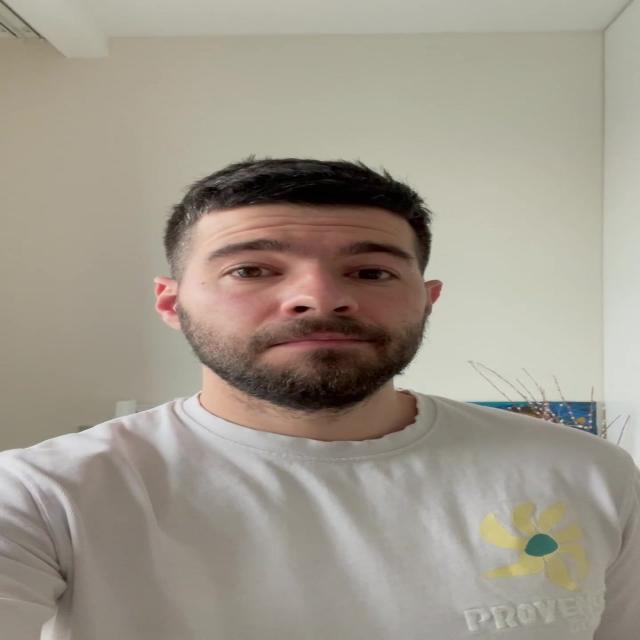earlobe: (161, 312, 184, 332)
eye: (349, 267, 398, 283), (224, 266, 281, 278)
nose: (285, 310, 354, 334)
wholeear: (153, 276, 184, 332), (424, 279, 443, 320)
